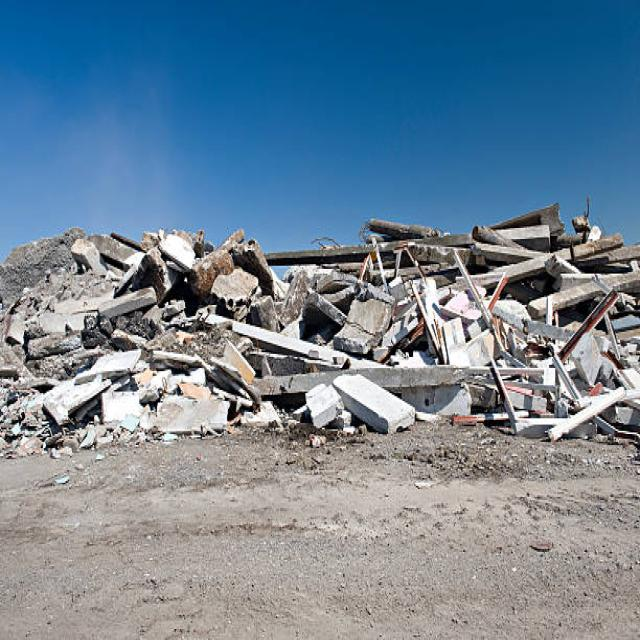trash: (22, 233, 616, 487)
